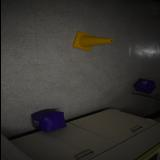cone: (72, 31, 112, 51)
cube: (30, 110, 66, 133), (132, 78, 156, 95)
